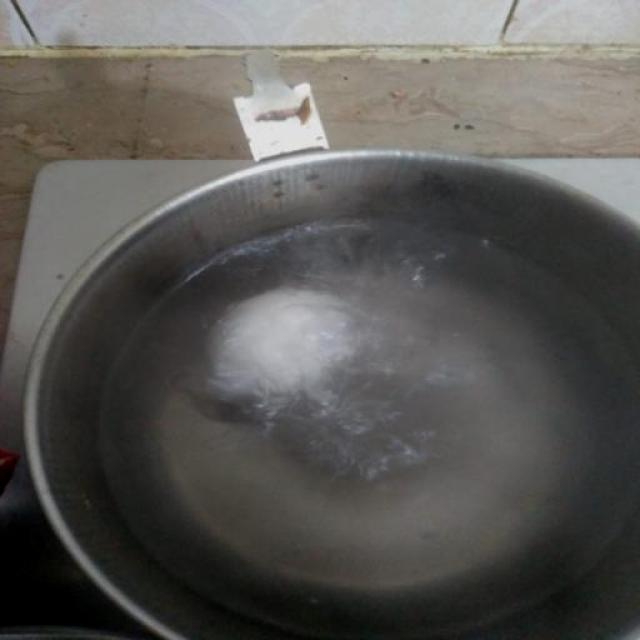telur: (201, 276, 365, 412)
